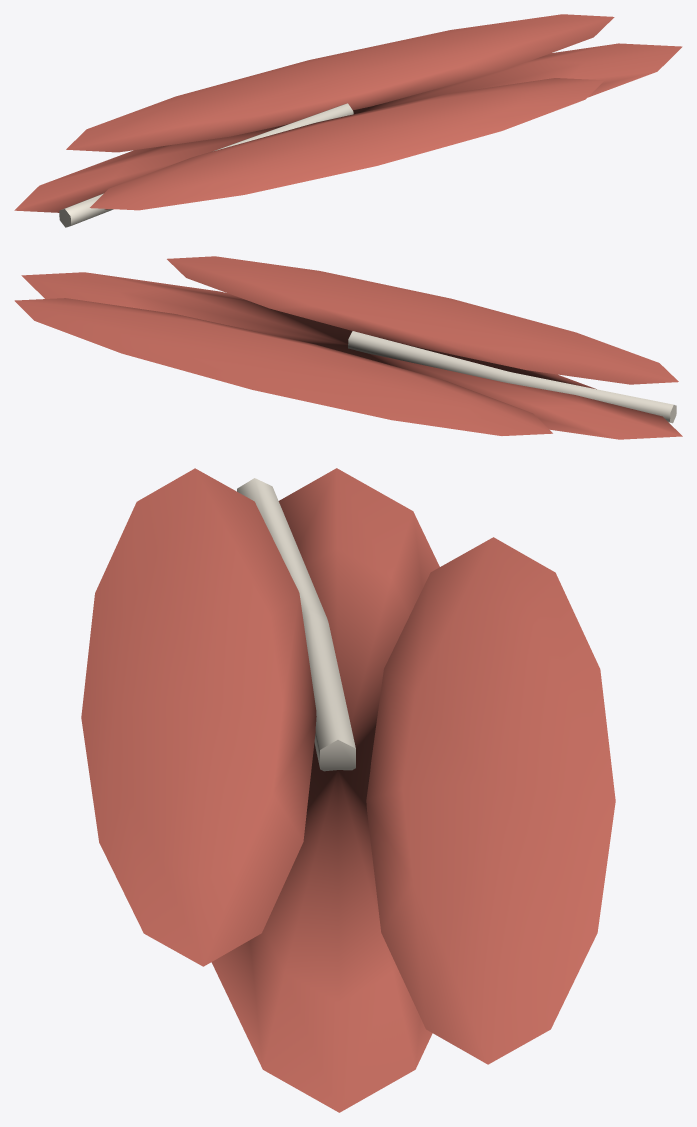
Rendered from forage_kelp.glb.
3 views of the same model, one above another, from view 1: azimuth 30°, elevation 25°; view 2: azimuth 150°, elevation 25°; view 3: azimuth 270°, elevation 25° (orthographic). The views are drawn at different scales.
Visible parts, largest first — view 1: PART; view 2: PART; view 3: PART.
Part boxes in pixels (x1,y1,x2,y2): PART: (14, 14, 682, 227); PART: (14, 256, 682, 439); PART: (81, 468, 615, 1112).
Size of the model in its own units: 0.22 by 0.0118 by 0.077.
